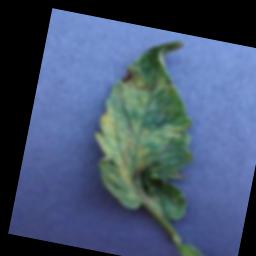Leaf_Mold: (82, 28, 217, 222)
